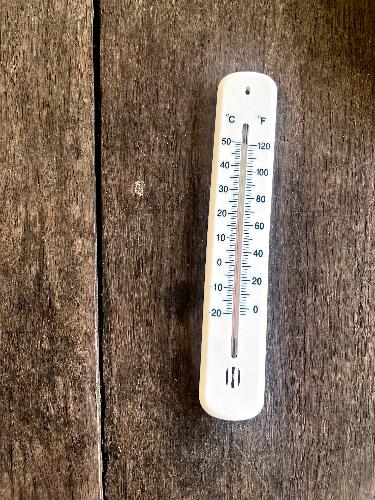thermo: (197, 73, 285, 419)
